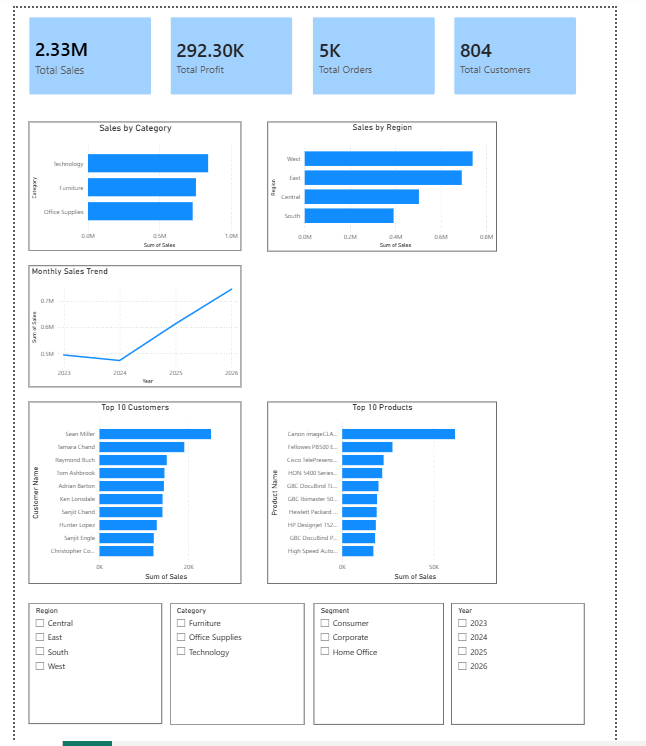

Layout of this report page (visuals, bound fields, positions):
{"tool":"powerbi","page":{"name":"Sales Dashboard","canvas":[1200,1500],"ordinal":0},"visuals":[{"type":"cardVisual","fields":{"Data":["cleaned_superstore.Total Sales"]},"box":[10,0,280,191.7],"z":0},{"type":"cardVisual","fields":{"Data":["cleaned_superstore.Total Profit"]},"box":[293.3,0,280,191.7],"z":1000},{"type":"cardVisual","fields":{"Data":["cleaned_superstore.Total Orders"]},"box":[576.7,0,280,191.7],"z":2000},{"type":"cardVisual","fields":{"Data":["cleaned_superstore.Total Customers"]},"box":[860,0,280,191.7],"z":3000},{"type":"clusteredBarChart","title":"Sales by Category","fields":{"Y":["Sum(cleaned_superstore.Sales)"],"Category":["cleaned_superstore.Category"]},"box":[26.7,228.3,425,258.3],"z":4000},{"type":"clusteredBarChart","title":"Sales by Region","fields":{"Y":["Sum(cleaned_superstore.Sales)"],"Category":["cleaned_superstore.Region"]},"box":[505,226.7,458,259],"z":5000},{"type":"lineChart","title":"Monthly Sales Trend","fields":{"Category":["cleaned_superstore.Order Date.Variation.Date Hierarchy.Year","cleaned_superstore.Order Date.Variation.Date Hierarchy.Quarter","cleaned_superstore.Order Date.Variation.Date Hierarchy.Month","cleaned_superstore.Order Date.Variation.Date Hierarchy.Day"],"Y":["Sum(cleaned_superstore.Sales)"]},"box":[27,515,425,243],"z":6000},{"type":"clusteredBarChart","title":"Top 10 Customers","fields":{"Y":["Sum(cleaned_superstore.Sales)"],"Category":["cleaned_superstore.Customer Name"]},"box":[26.2,787.5,425,363.8],"z":7000},{"type":"clusteredBarChart","title":"Top 10 Products","fields":{"Y":["Sum(cleaned_superstore.Sales)"],"Category":["cleaned_superstore.Product Name"]},"box":[503.8,787.5,458.8,363.8],"z":8000},{"type":"slicer","fields":{"Values":["cleaned_superstore.Region"]},"box":[26.7,1190,266.7,241.7],"z":9000},{"type":"slicer","fields":{"Values":["cleaned_superstore.Category"]},"box":[308.9,1190,268.8,243.8],"z":10000},{"type":"slicer","fields":{"Values":["cleaned_superstore.Segment"]},"box":[596.7,1190,260,243.3],"z":11000},{"type":"slicer","fields":{"Values":["cleaned_superstore.Order Date.Variation.Date Hierarchy.Year"]},"box":[873.3,1190,266.7,243.3],"z":12000}]}

Visuals, with their boxes on the page's 1200x1500 design canvas (x1, y1, x2, y2). These are canvas units, not pixel positions in the 646x746 screenshot, which may show the page scaled, cropped or inside an application window:
cardVisual - cleaned_superstore.Total Sales: {"left": 10, "top": 0, "right": 290, "bottom": 192}
cardVisual - cleaned_superstore.Total Profit: {"left": 293, "top": 0, "right": 573, "bottom": 192}
cardVisual - cleaned_superstore.Total Orders: {"left": 577, "top": 0, "right": 857, "bottom": 192}
cardVisual - cleaned_superstore.Total Customers: {"left": 860, "top": 0, "right": 1140, "bottom": 192}
"Sales by Category" clusteredBarChart: {"left": 27, "top": 228, "right": 452, "bottom": 487}
"Sales by Region" clusteredBarChart: {"left": 505, "top": 227, "right": 963, "bottom": 486}
"Monthly Sales Trend" lineChart: {"left": 27, "top": 515, "right": 452, "bottom": 758}
"Top 10 Customers" clusteredBarChart: {"left": 26, "top": 788, "right": 451, "bottom": 1151}
"Top 10 Products" clusteredBarChart: {"left": 504, "top": 788, "right": 963, "bottom": 1151}
slicer - cleaned_superstore.Region: {"left": 27, "top": 1190, "right": 293, "bottom": 1432}
slicer - cleaned_superstore.Category: {"left": 309, "top": 1190, "right": 578, "bottom": 1434}
slicer - cleaned_superstore.Segment: {"left": 597, "top": 1190, "right": 857, "bottom": 1433}
slicer - cleaned_superstore.Order Date.Variation.Date Hierarchy.Year: {"left": 873, "top": 1190, "right": 1140, "bottom": 1433}
